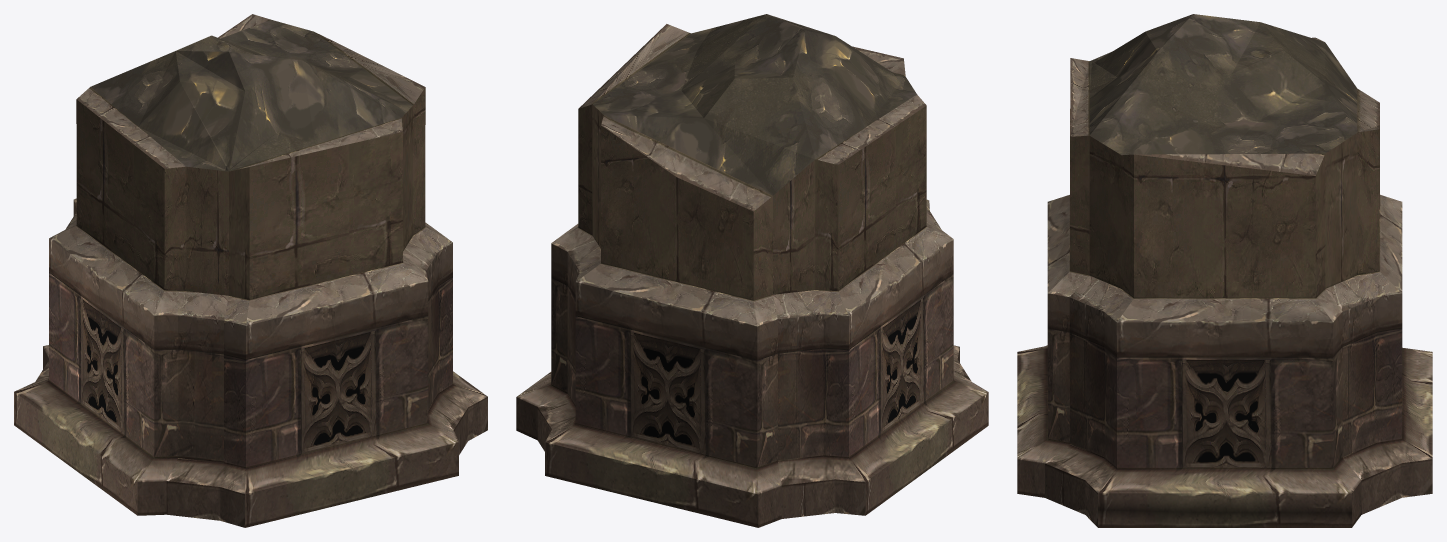
Rendered from A03_pillar_f_break.FBX.
3 renders of one model, left to right at view 1: azimuth 30°, elevation 25°; view 2: azimuth 150°, elevation 25°; view 3: azimuth 270°, elevation 25°, orthographic. The views are drawn at different scales.
Visible parts, largest first — view 1: A03_pillar_f_break; view 2: A03_pillar_f_break; view 3: A03_pillar_f_break.
Part boxes in pixels (<box>): A03_pillar_f_break: <box>14,14,487,527</box>; A03_pillar_f_break: <box>516,14,988,527</box>; A03_pillar_f_break: <box>1017,14,1432,527</box>.
Size of the model in its own units: 2.58 by 2.79 by 2.58.
